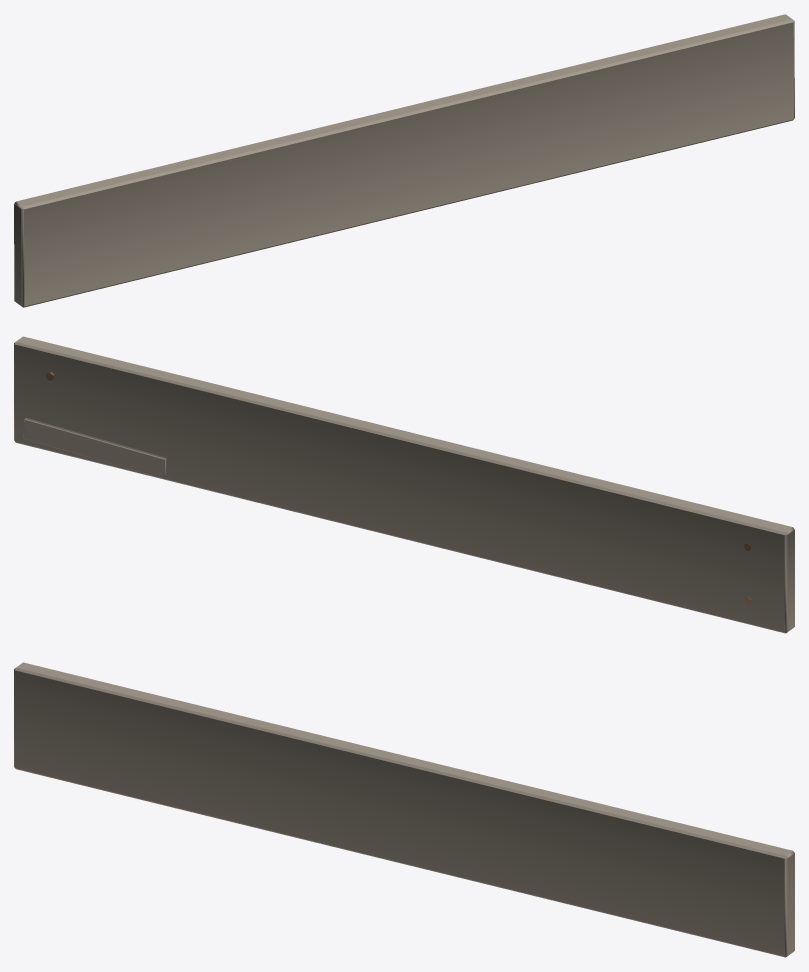
File: window_board.glb
3 views of the same model, one above another, from view 1: azimuth 30°, elevation 25°; view 2: azimuth 150°, elevation 25°; view 3: azimuth 330°, elevation 25° (orthographic).
Visible parts, largest first — view 1: static; view 2: static; view 3: static.
Boxes of the visible parts, x1=… form: static: x1=14, y1=14, x2=794, y2=307; static: x1=14, y1=336, x2=794, y2=633; static: x1=14, y1=662, x2=794, y2=957.
Bounding box in the file's own units: 1.2 × 0.1518 × 0.0317.
